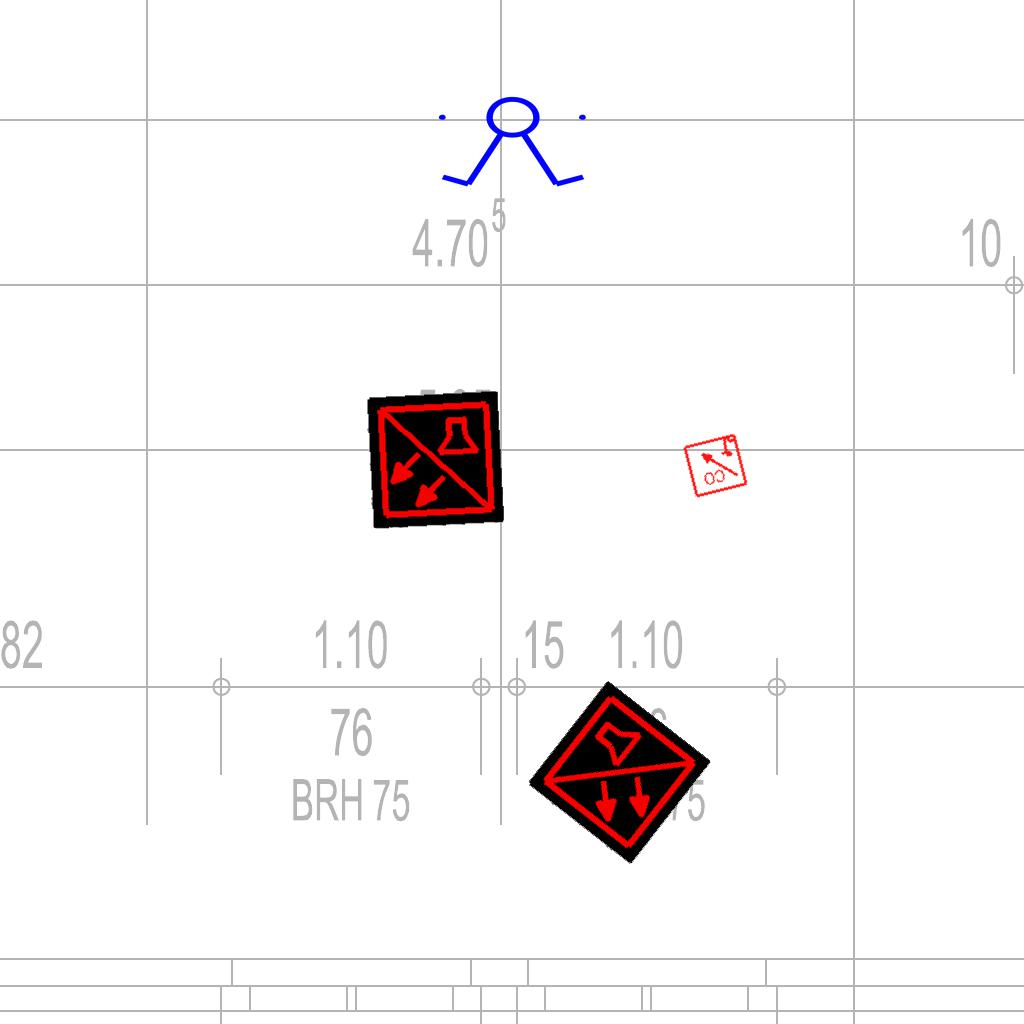OKW_Multisensormelder_(Kombination_optischer_Rauch-Kahlenmonoxid_Waerme-Melder): (526, 680, 712, 866), (365, 390, 505, 530)
ROA_Rauchmelder_optisch_mit_Signalgeber_(Sockelsirene): (681, 431, 749, 499)
Serienschalter: (430, 95, 598, 191)
